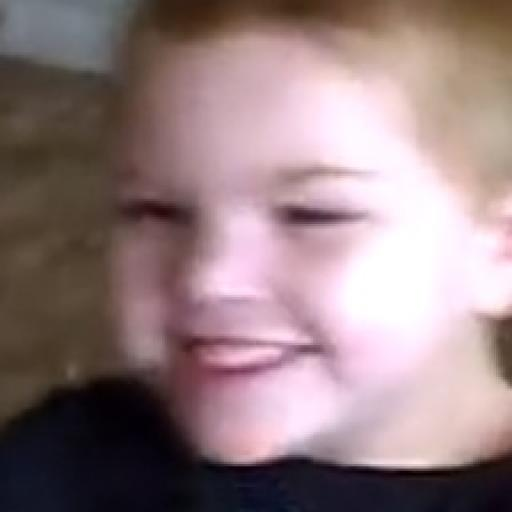Autism: (128, 0, 512, 475)
